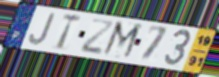3: (163, 28, 193, 69)
7: (141, 24, 169, 64)
J: (28, 12, 57, 46)
M: (100, 19, 145, 62)
T: (55, 12, 84, 52)
Z: (78, 17, 116, 56)
